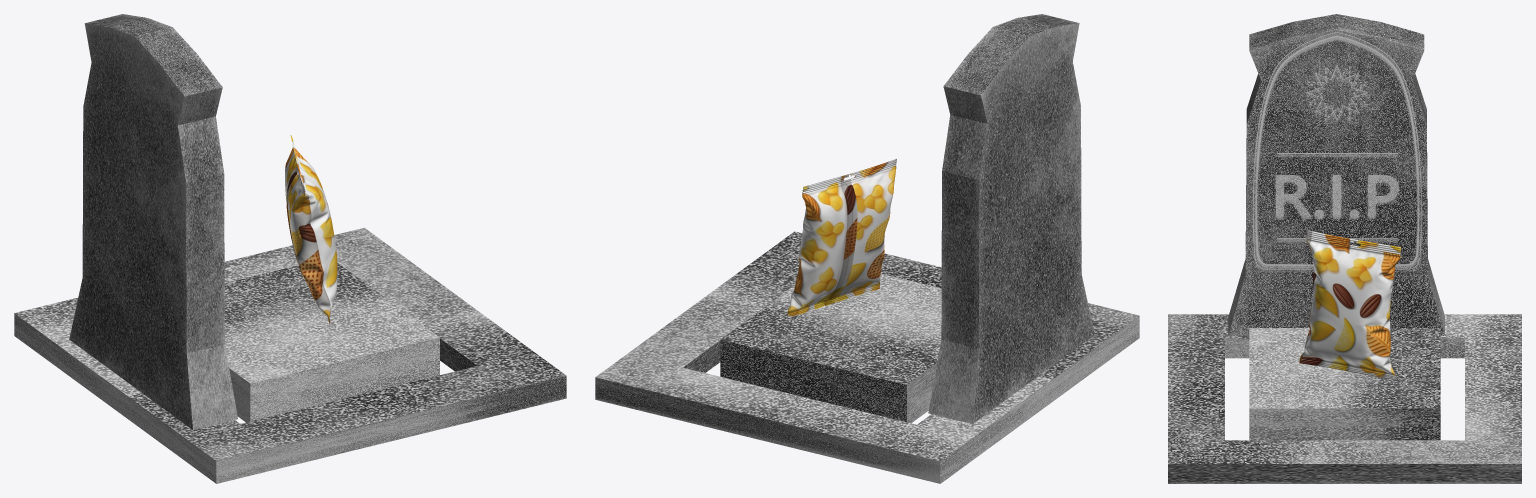
File: meme4.glb
3 views of the same model, side by side, from view 1: azimuth 30°, elevation 25°; view 2: azimuth 150°, elevation 25°; view 3: azimuth 270°, elevation 25° (orthographic). The views are drawn at different scales.
Visible parts, largest first — view 1: Cube.034, Cube.026, Cube.027, hanging_package; view 2: Cube.034, Cube.026, Cube.027, hanging_package; view 3: Cube.034, Cube.026, Cube.027, hanging_package.
Boxes of the visible parts, <box> form: Cube.034: <box>69,14,237,429</box>; Cube.026: <box>14,227,566,483</box>; Cube.027: <box>224,262,439,422</box>; hanging_package: <box>285,135,337,323</box>; Cube.034: <box>928,14,1094,424</box>; Cube.026: <box>595,231,1139,483</box>; Cube.027: <box>720,273,941,423</box>; hanging_package: <box>787,158,896,317</box>; Cube.034: <box>1228,14,1444,335</box>; Cube.026: <box>1168,314,1521,483</box>; Cube.027: <box>1249,328,1440,440</box>; hanging_package: <box>1299,230,1400,379</box>.
Bounding box in the file's own units: 0.7549 × 0.7688 × 0.7549.
3 materials, 3 textured.
